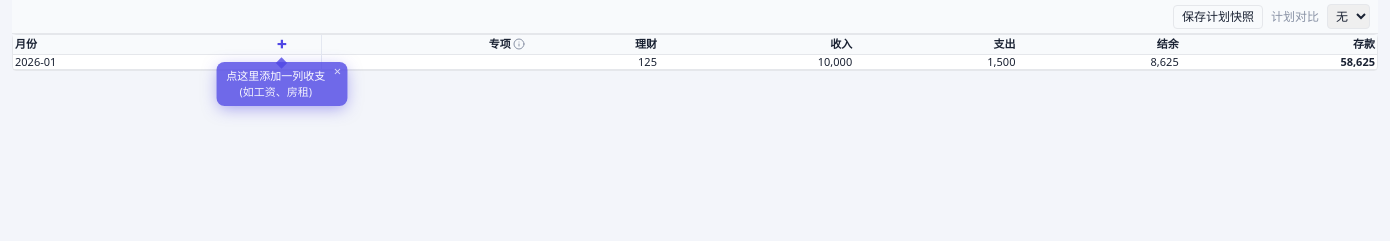
Test: MonthlyTable › hover 理财/收入/支出/结余单元格显示公式弹窗
// hover 理财
Hover over the text "125": (648, 61) [638,54,657,69]
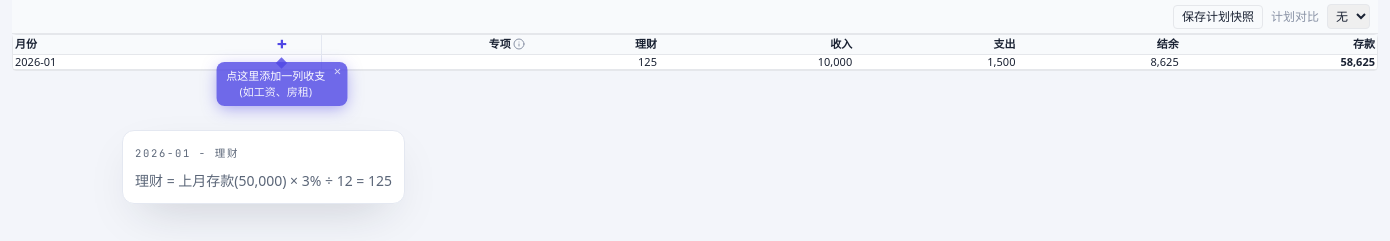
Expected: the text "理财" is shown, [527,35,659,54]
Expected: the text "上月存款(50,000)" is shown, [135,171,392,190]
// hover 收入
Hover over the text "10,000": (835, 61) [818,54,852,69]
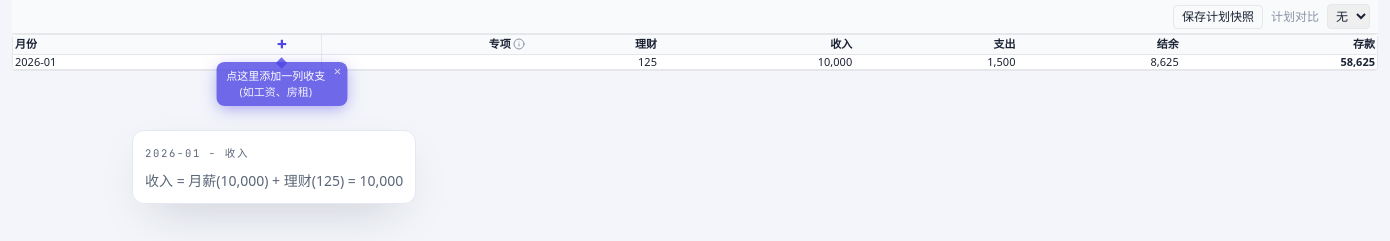
Expected: the text "收入 = 月薪(10,000) + 理财(125) = 10,000" is shown, [145,171,403,191]
// hover 支出
Hover over the text "1,500": (1001, 61) [987,54,1015,69]
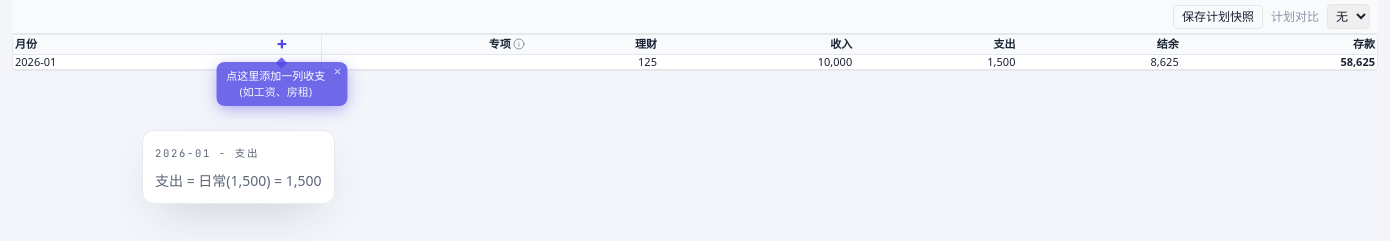
Expected: the text "支出 = 日常(1,500) = 1,500" is shown, [155,171,322,191]
// hover 结余
Hover over the text "8,625": (1165, 61) [1151,54,1179,69]
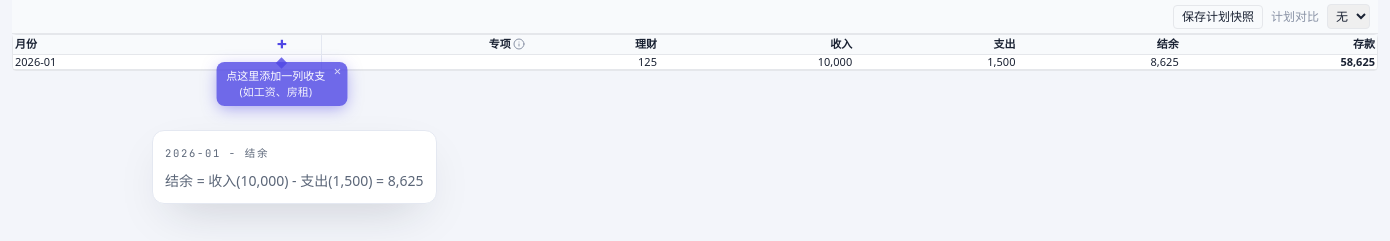
Expected: the text "结余 = 收入(10,000) - 支出(1,500) = 8,625" is shown, [165,171,424,191]
